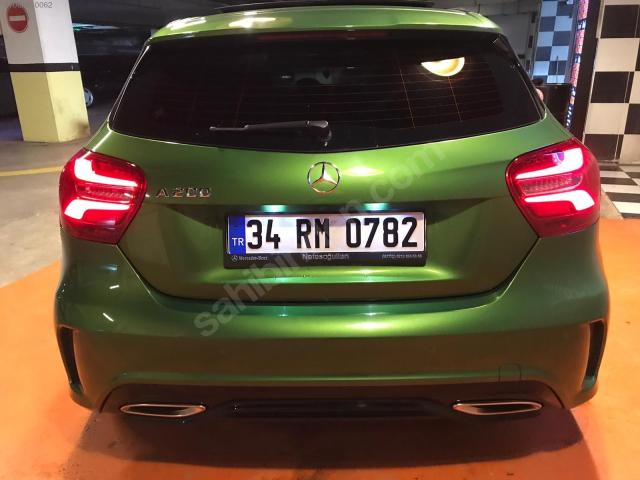plaka: (226, 212, 426, 262)
